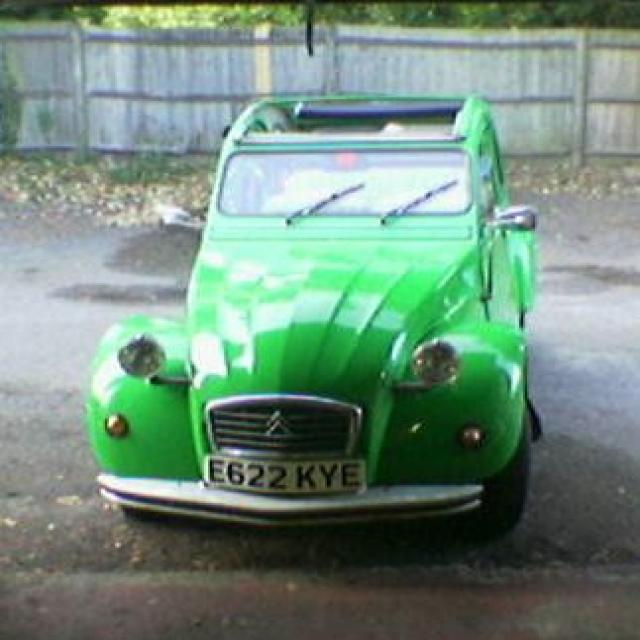car: (81, 92, 539, 541)
